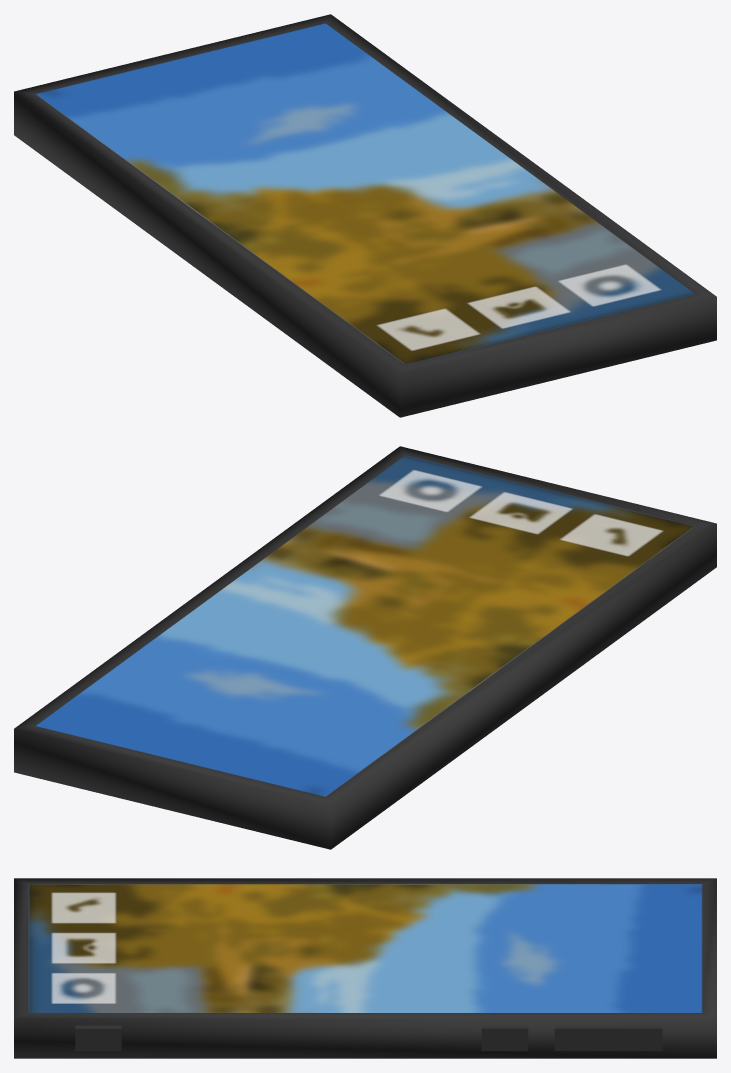
File: smartphone.glb
3 renders of one model, top to bottom at view 1: azimuth 30°, elevation 25°; view 2: azimuth 150°, elevation 25°; view 3: azimuth 270°, elevation 25°, orthographic. The views are drawn at different scales.
Parts seen in each view (by area): view 1: Smartphone 1; view 2: Smartphone 1; view 3: Smartphone 1.
Boxes of the visible parts, <box> form: Smartphone 1: <box>14,14,716,417</box>; Smartphone 1: <box>14,446,716,849</box>; Smartphone 1: <box>14,878,716,1058</box>.
Size of the model in its own units: 0.1051 by 0.0135 by 0.2172.
2 materials, 2 textured.
